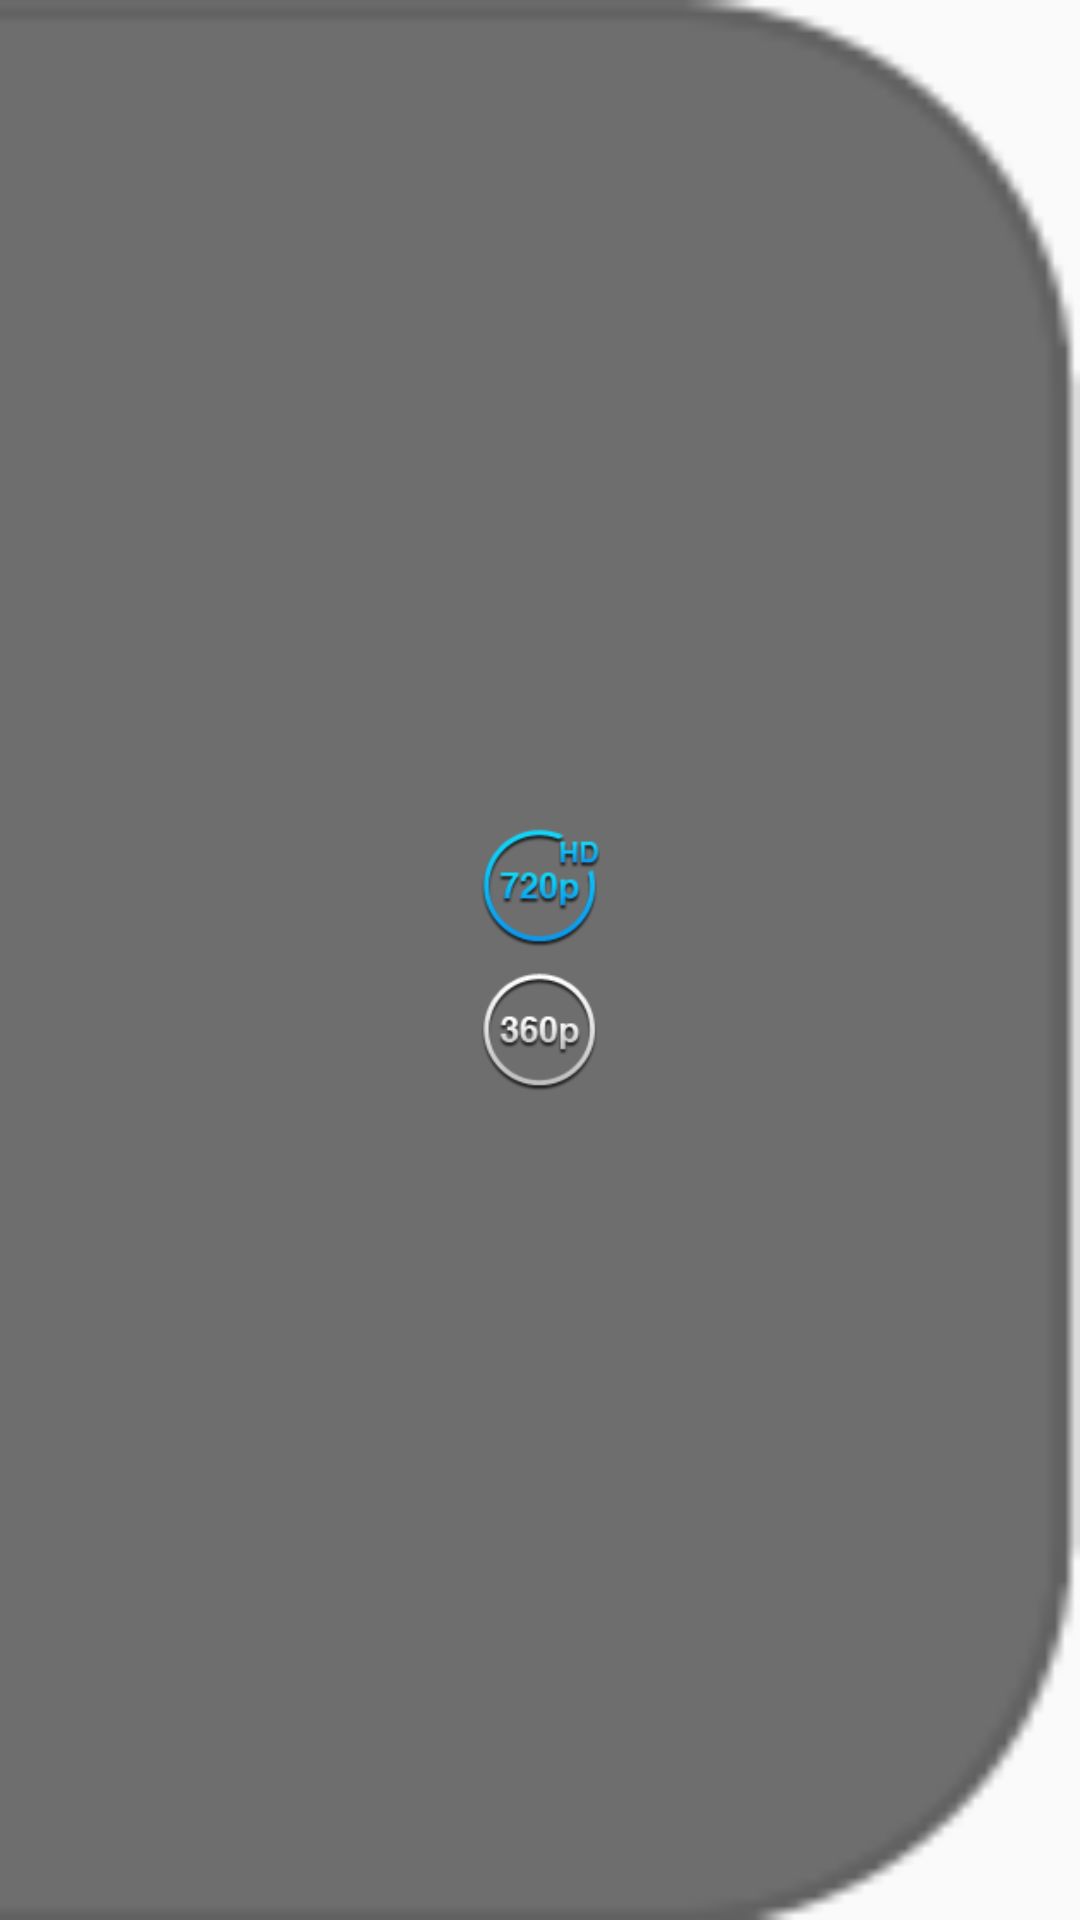

Icons on this 1080w x 1920h Android screen, each with its box as (x1, y1, x2, y2):
quality: (483, 829, 599, 945), (483, 973, 595, 1089)
